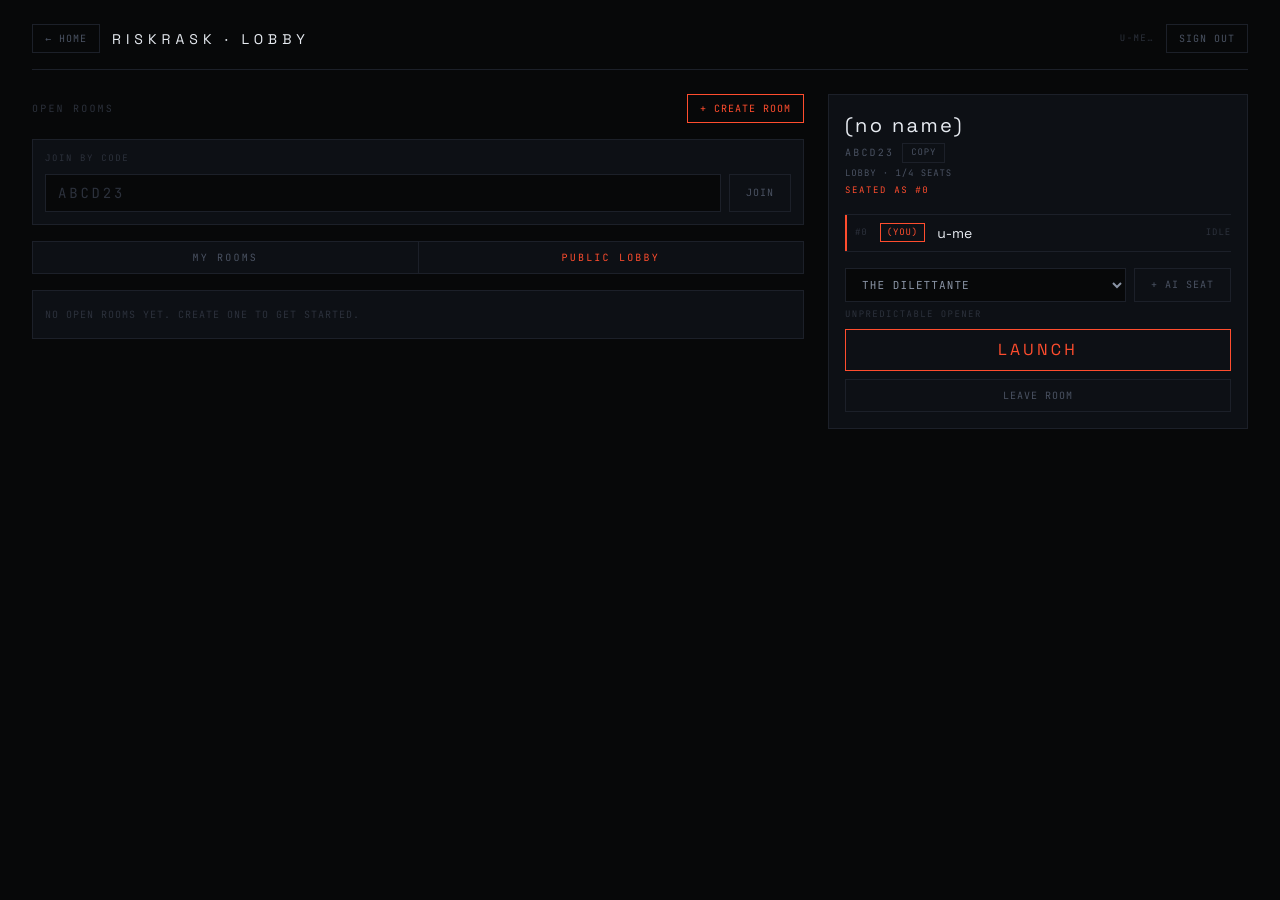
Test: Lobby › opens solo-copy ConfirmDialog when the only human clicks Leave
Click the button with test id "leave-btn" at (1038, 396), box [845,379,1231,412]
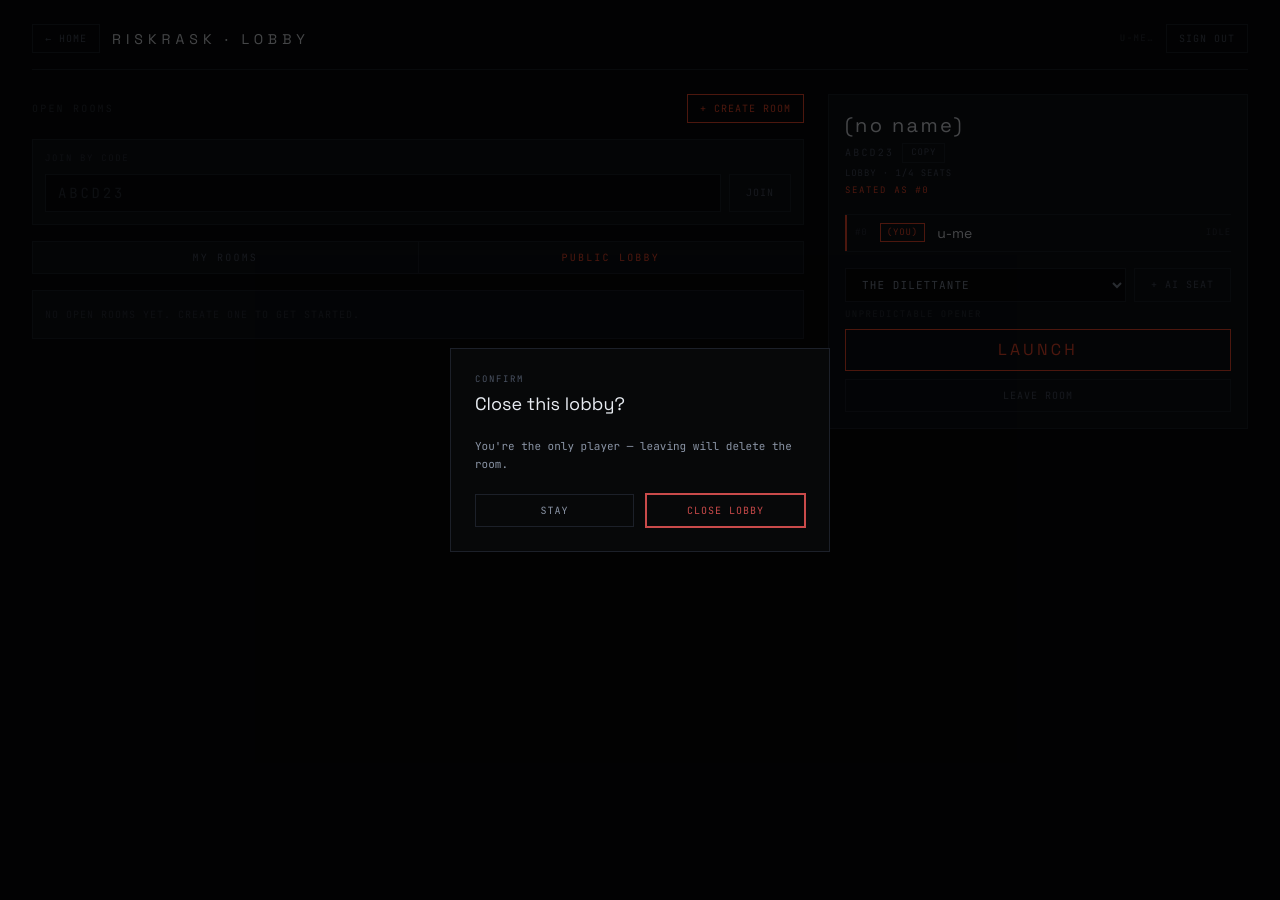
Expected: the element with test id "confirm-dialog" is shown
Expected: the heading "Close this lobby?" is shown, [475,392,625,415]
Expected: the button with test id "confirm-dialog-confirm" reads "Close lobby", [646,494,805,527]
